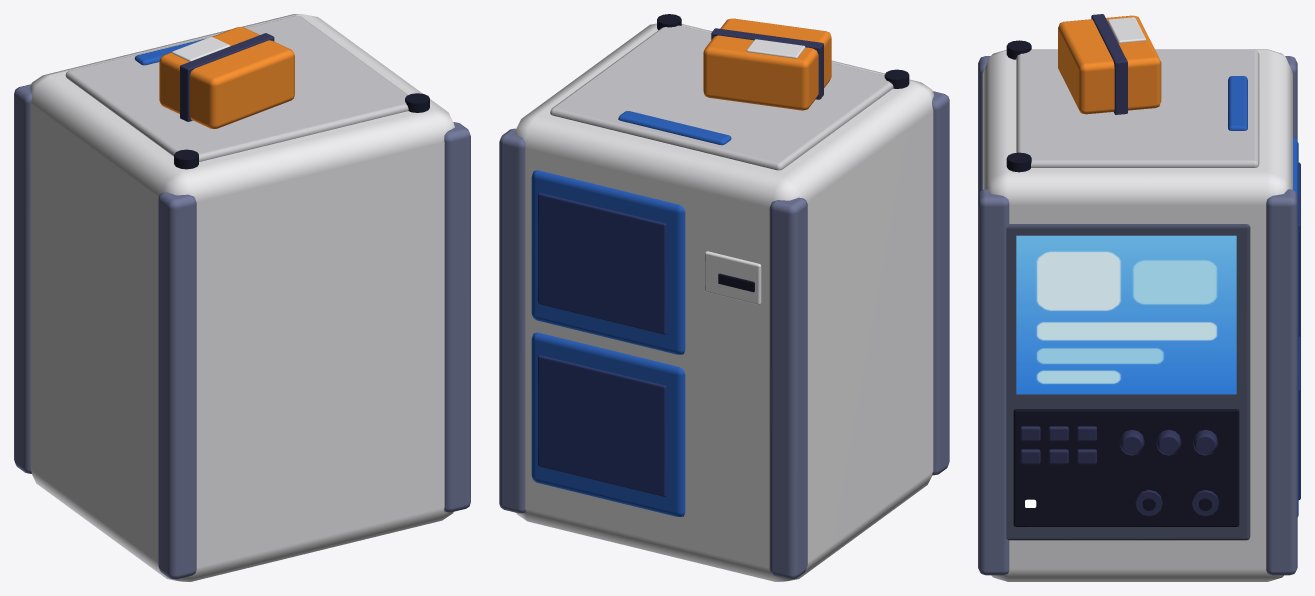
The model's file is prop.props_workrooms.crate_white_blue.glb.
The picture shows the model from 3 angles, left to right: view 1: azimuth 30°, elevation 25°; view 2: azimuth 150°, elevation 25°; view 3: azimuth 270°, elevation 25°; orthographic projection.
Visible parts, largest first — view 1: prop.props_workrooms.crate_white_blue; view 2: prop.props_workrooms.crate_white_blue; view 3: prop.props_workrooms.crate_white_blue.
Boxes of the visible parts, box(x1,y1,x2,y2) form: prop.props_workrooms.crate_white_blue: box(14, 14, 470, 581); prop.props_workrooms.crate_white_blue: box(499, 14, 949, 581); prop.props_workrooms.crate_white_blue: box(978, 14, 1300, 581).
Bounding box in the file's own units: 0.638 × 0.916 × 0.572.
11 materials, 1 textured.
